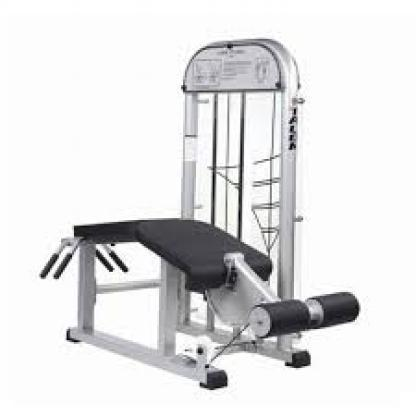reg curl machine: (35, 38, 364, 393)
